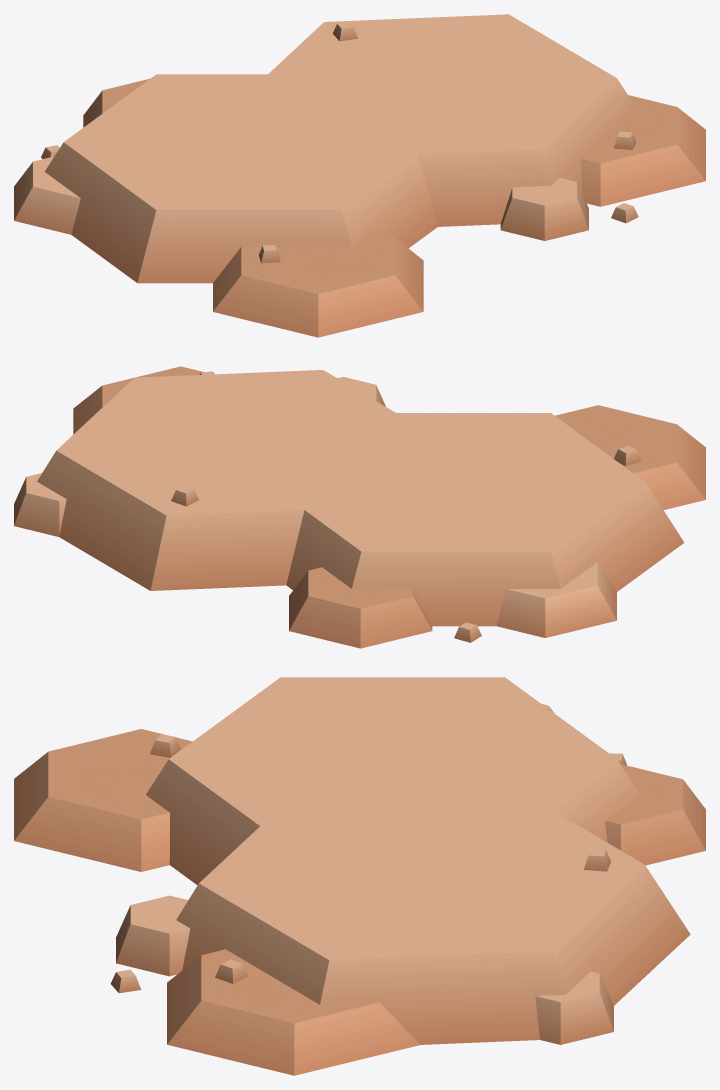
The model's file is rock-flat.glb.
The picture shows the model from 3 angles, top to bottom: view 1: azimuth 30°, elevation 25°; view 2: azimuth 150°, elevation 25°; view 3: azimuth 270°, elevation 25°; orthographic projection. The views are drawn at different scales.
Visible parts, largest first — view 1: rock-flat; view 2: rock-flat; view 3: rock-flat.
Boxes of the visible parts, <box> form: rock-flat: <box>14,14,705,337</box>; rock-flat: <box>14,366,705,648</box>; rock-flat: <box>14,677,705,1075</box>.
Size of the model in its own units: 1.79 by 0.195 by 1.45.
1 material, 1 textured.
